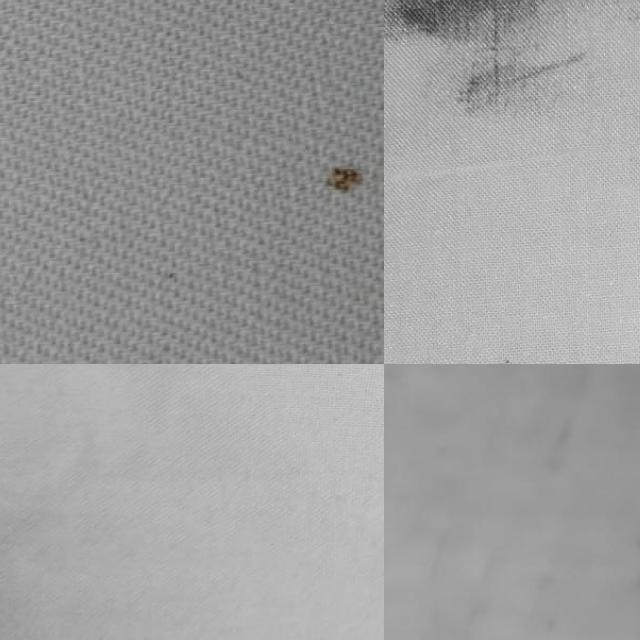Thread_other: (384, 0, 640, 163), (314, 148, 374, 208)
